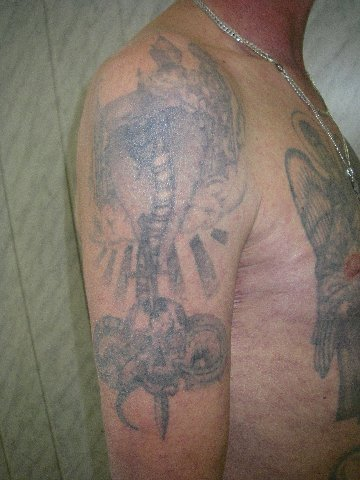tatu7_zmeya: (86, 43, 250, 425)
